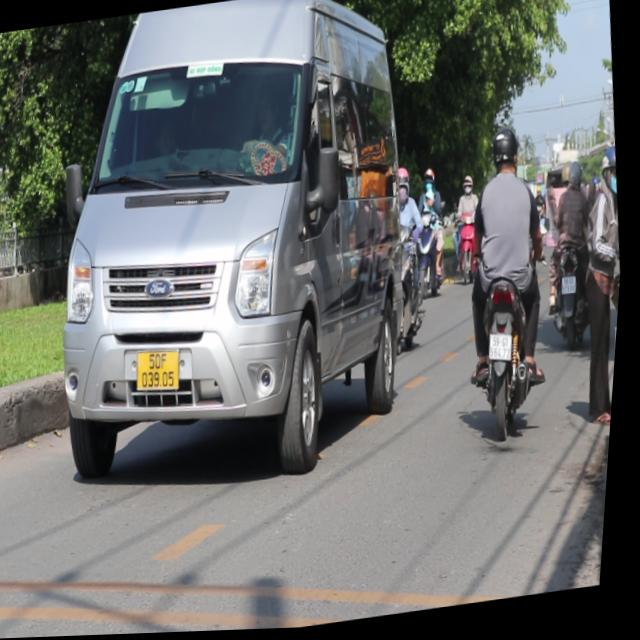helmet: (488, 129, 524, 178), (599, 147, 622, 196), (393, 166, 412, 200)
licenseplate: (442, 121, 570, 444), (563, 140, 632, 429), (574, 132, 632, 422), (533, 153, 611, 357), (381, 164, 441, 356)
nohelmet: (490, 333, 519, 366), (563, 279, 580, 298), (616, 325, 622, 349)
